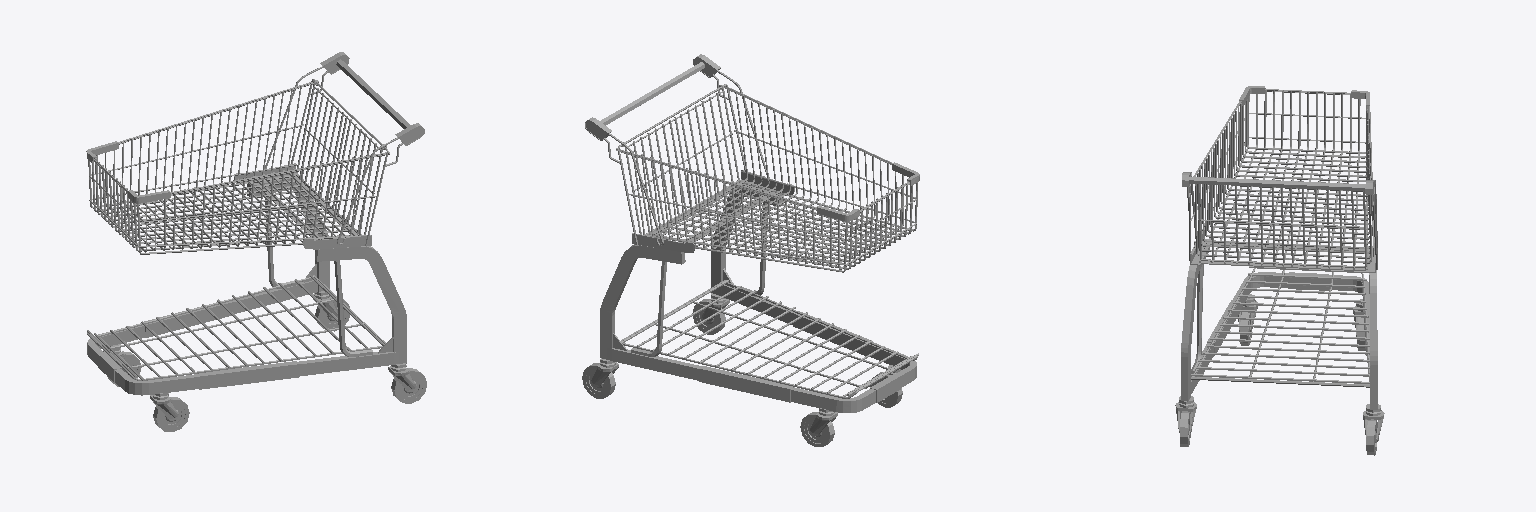
Rendered from trolley.obj.
3 views of the same model, side by side, from view 1: azimuth 30°, elevation 25°; view 2: azimuth 150°, elevation 25°; view 3: azimuth 270°, elevation 25° (orthographic).
Parts seen in each view (by area): view 1: Wanzl; view 2: Wanzl; view 3: Wanzl.
Boxes of the visible parts, x1,y1,x2,y2 form: Wanzl: [86, 52, 426, 431]; Wanzl: [582, 54, 919, 446]; Wanzl: [1175, 86, 1384, 455].
Bounding box in the file's own units: 1.01 × 0.9539 × 0.6569.